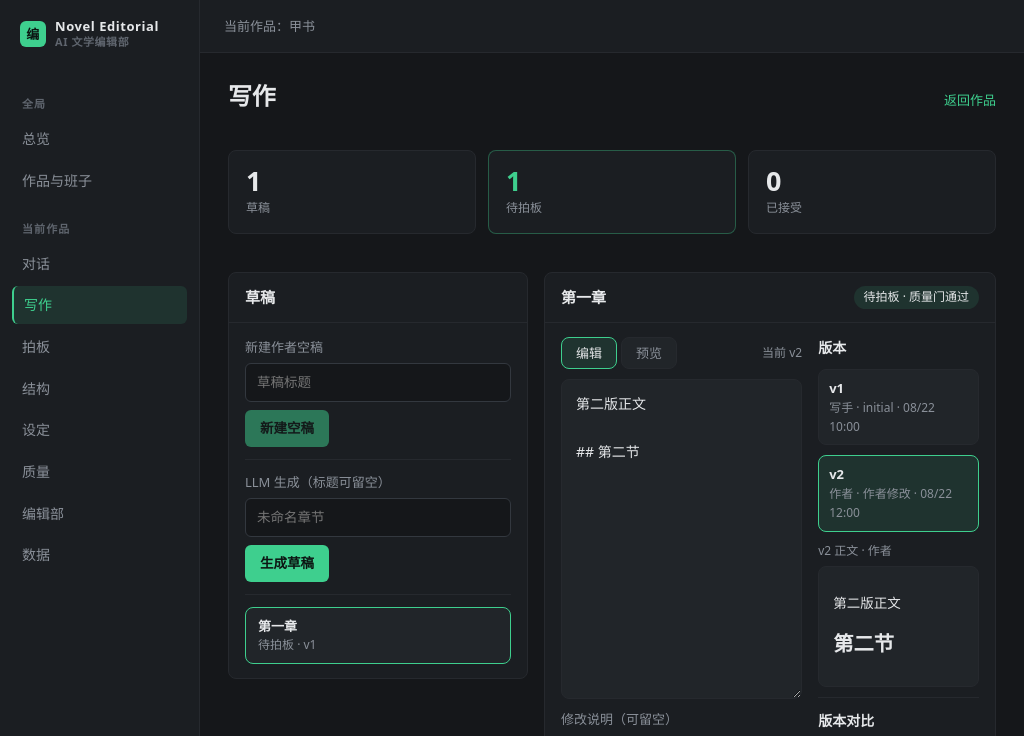
Scenario: writer page › shows any version's content on demand
expect the heading "第一章" is shown: met, box x1=561 y1=286 x2=606 y2=309
expect the element with test id "version-content" shows "第二节": met, box x1=833 y1=630 x2=894 y2=658
Click the button with test id "version-item" showing "v1 写手 · initial · 08/22 10:00". click: (899, 407)
box: x1=818 y1=369 x2=979 y2=445
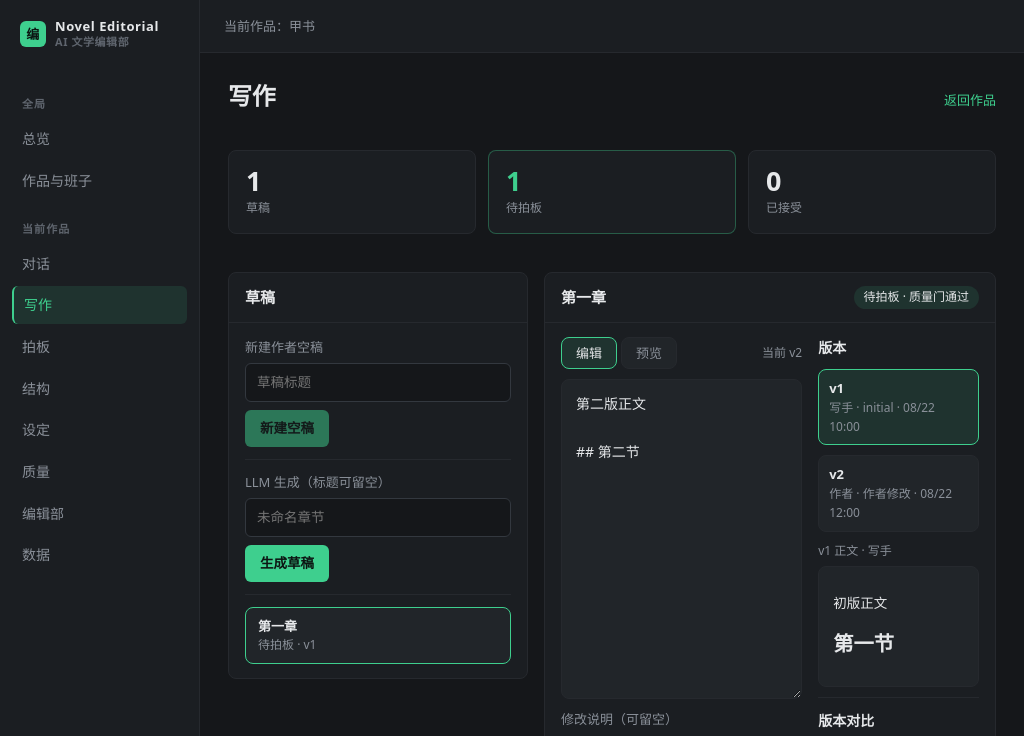
expect the element with test id "version-content" shows "第一节": met, box x1=833 y1=630 x2=894 y2=658
expect the element with test id "version-content" shows "v1 正文 · 写手": met, box x1=818 y1=542 x2=979 y2=687
